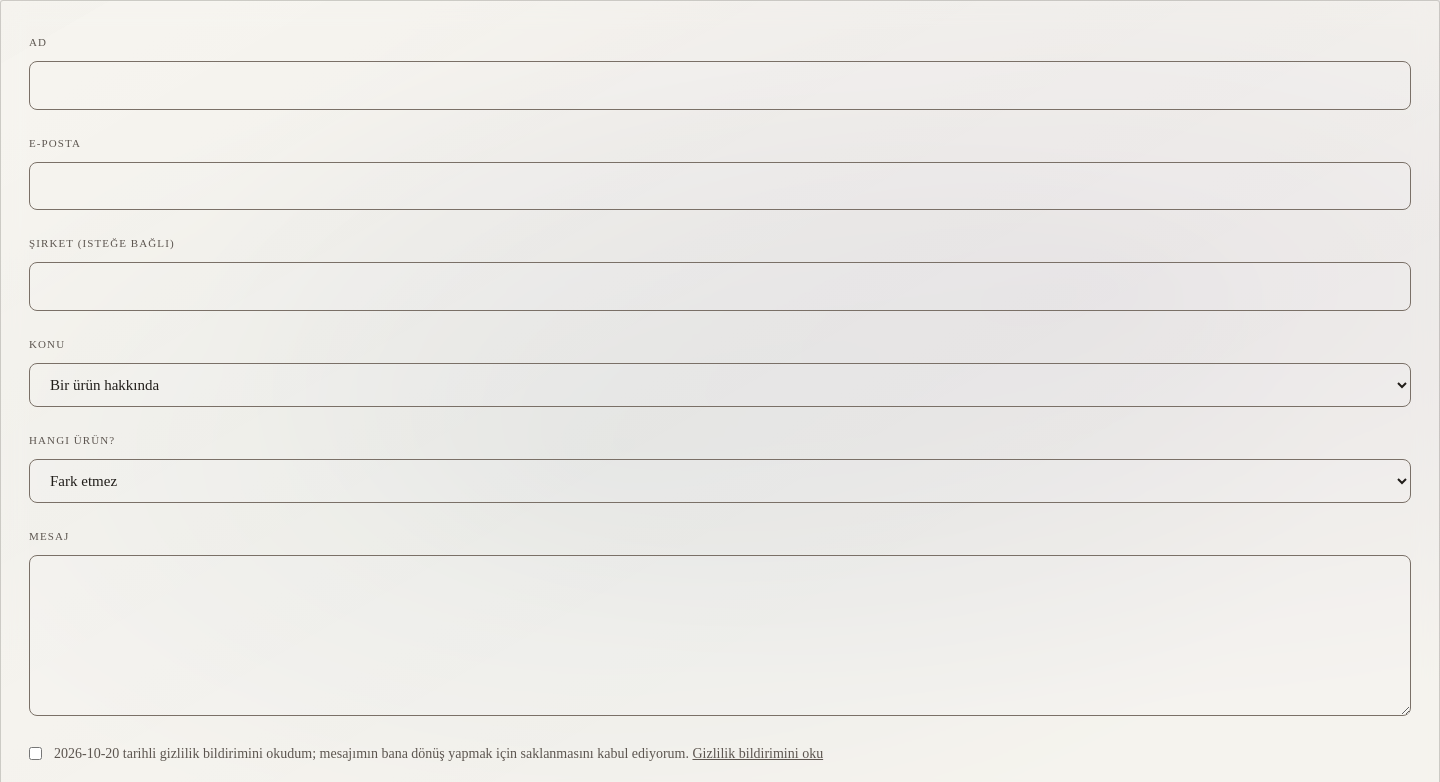
Test: lead real React submission recovery › bounds an abort-ignoring request, preserves the draft and ignores its late receipt after retry
The width and height of the screenshot is (1440, 782).
Type "Ada Example" into the field labelled "Ad" at coordinates (720, 85), box [29,61,1411,110]
Type "ada@example.com" into the field labelled "E-posta" at coordinates (720, 186), box [29,162,1411,210]
Type "Example Company" into the field labelled "Şirket (isteğe bağlı)" at coordinates (720, 286), box [29,262,1411,310]
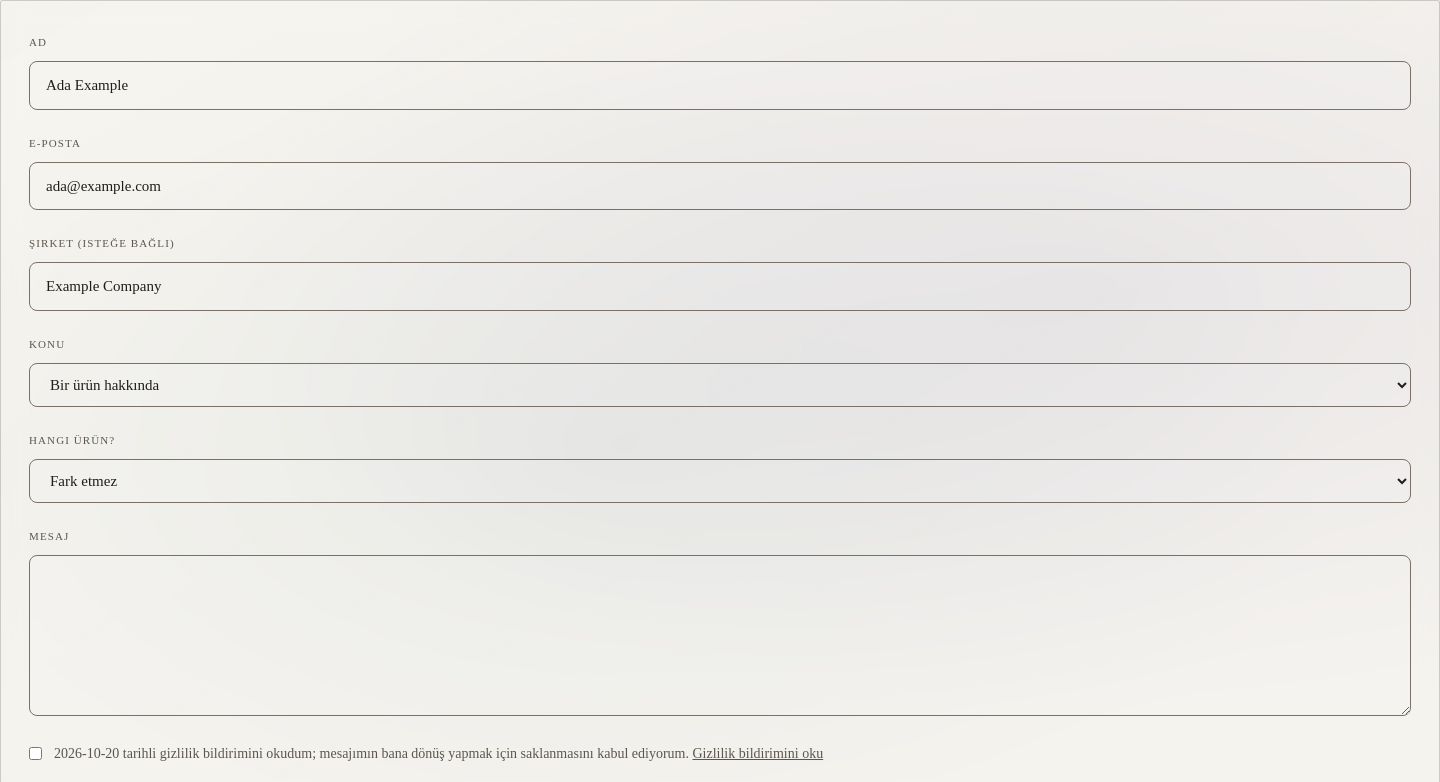
Type "A sample product enquiry with no private data." into the text box labelled "Mesaj" at coordinates (720, 635), box [29,554,1411,716]
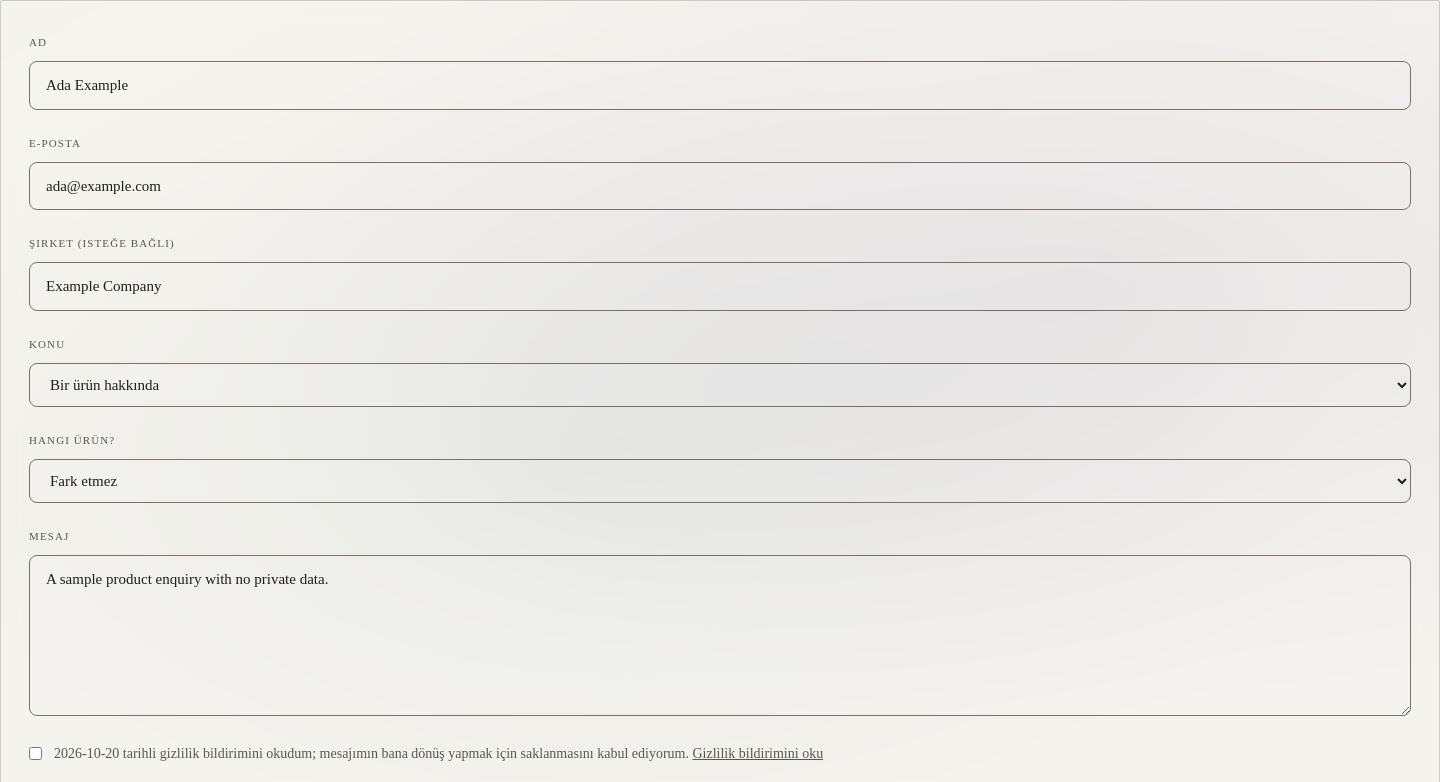
Select "LifeOS" in the dropdown labelled "Hangi ürün?" at coordinates (720, 480), box [29,458,1411,502]
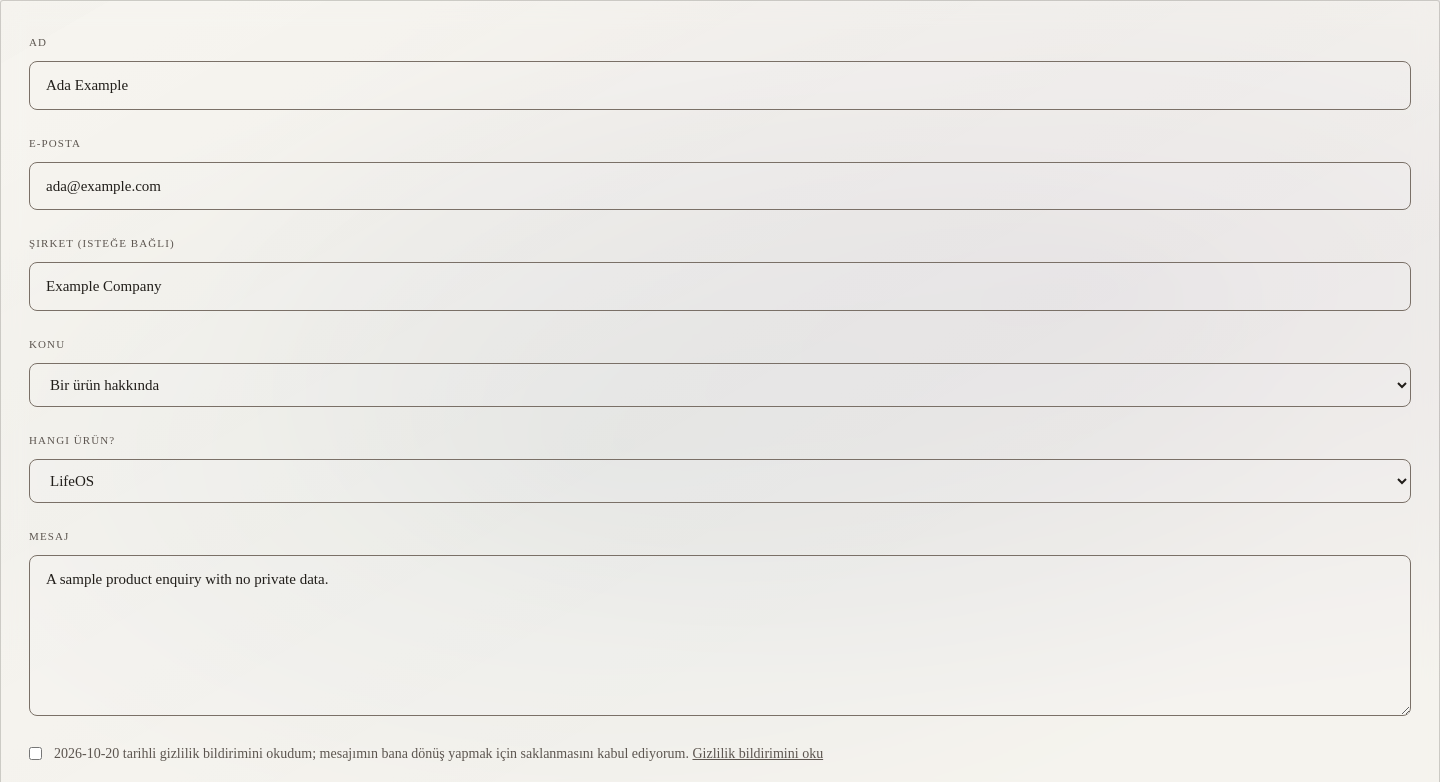
Click the checkbox at coordinates (36, 753), box [29,746,42,760]
(page scrolled)
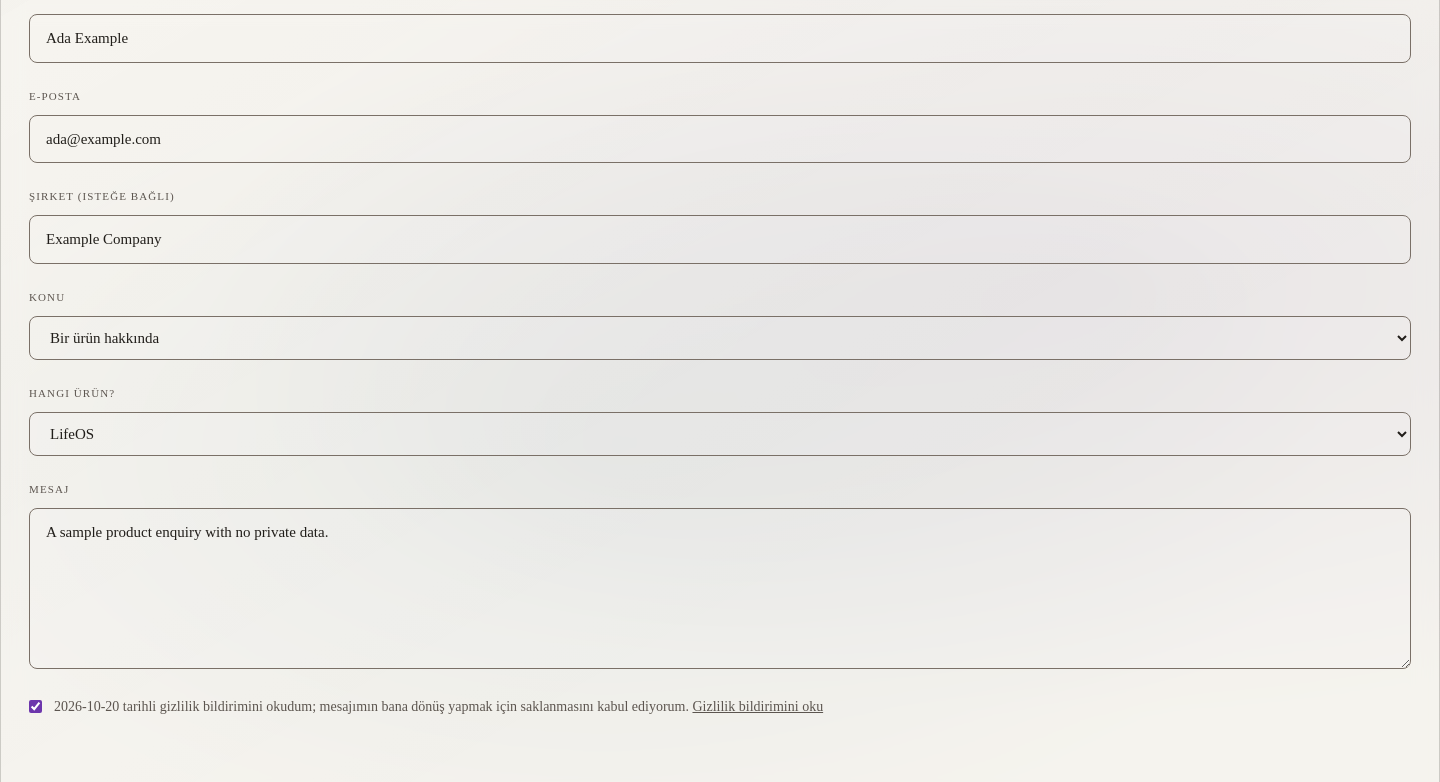
Submit the form
Wait 15000 ms
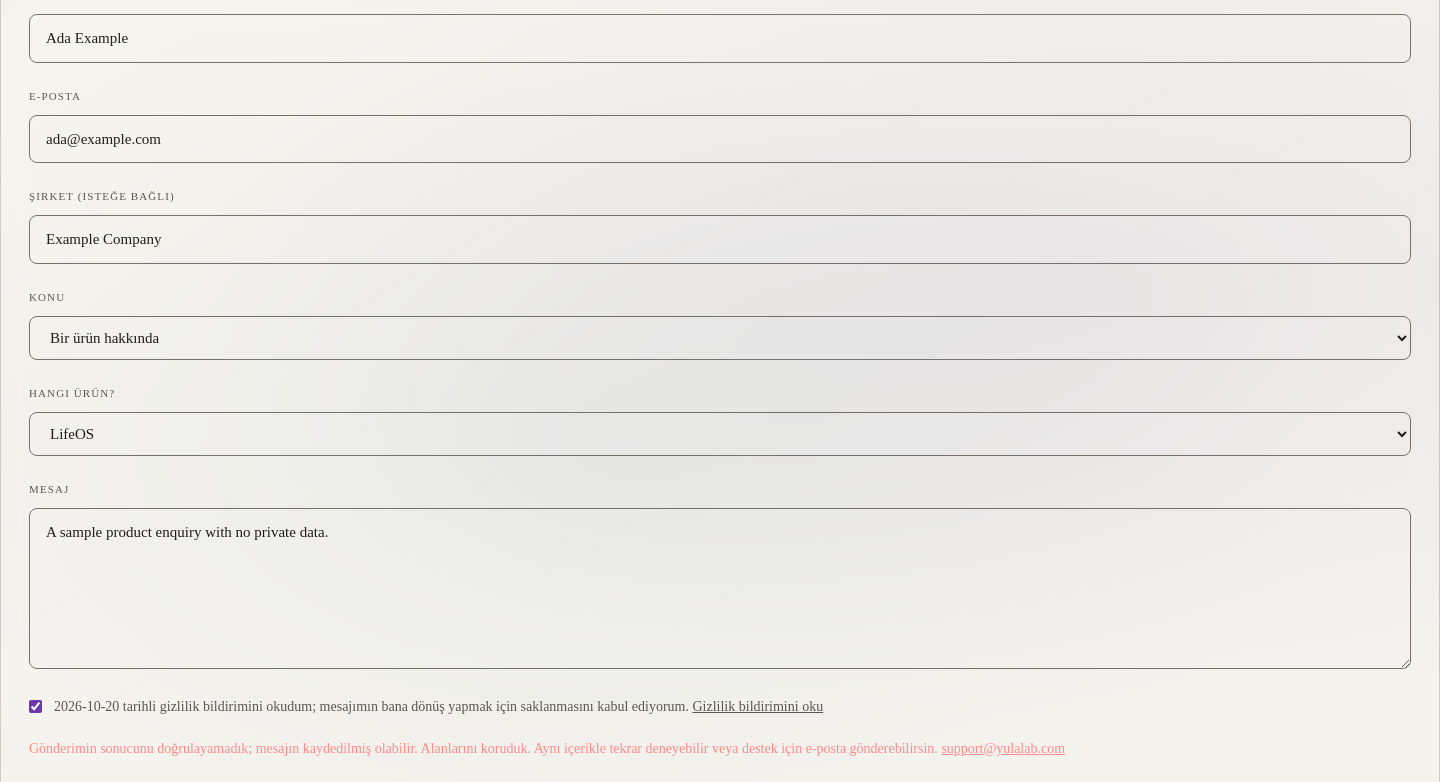
Result: the checkbox is checked at [29,700,42,712]
Result: the text "Gönderimin sonucunu doğrulayamadık; mesajın kaydedilmiş olabilir. Alanlarını koruduk. Aynı içerikle tekrar deneyebilir v" is shown at [29,741,938,756]
Submit the form
(page scrolled)
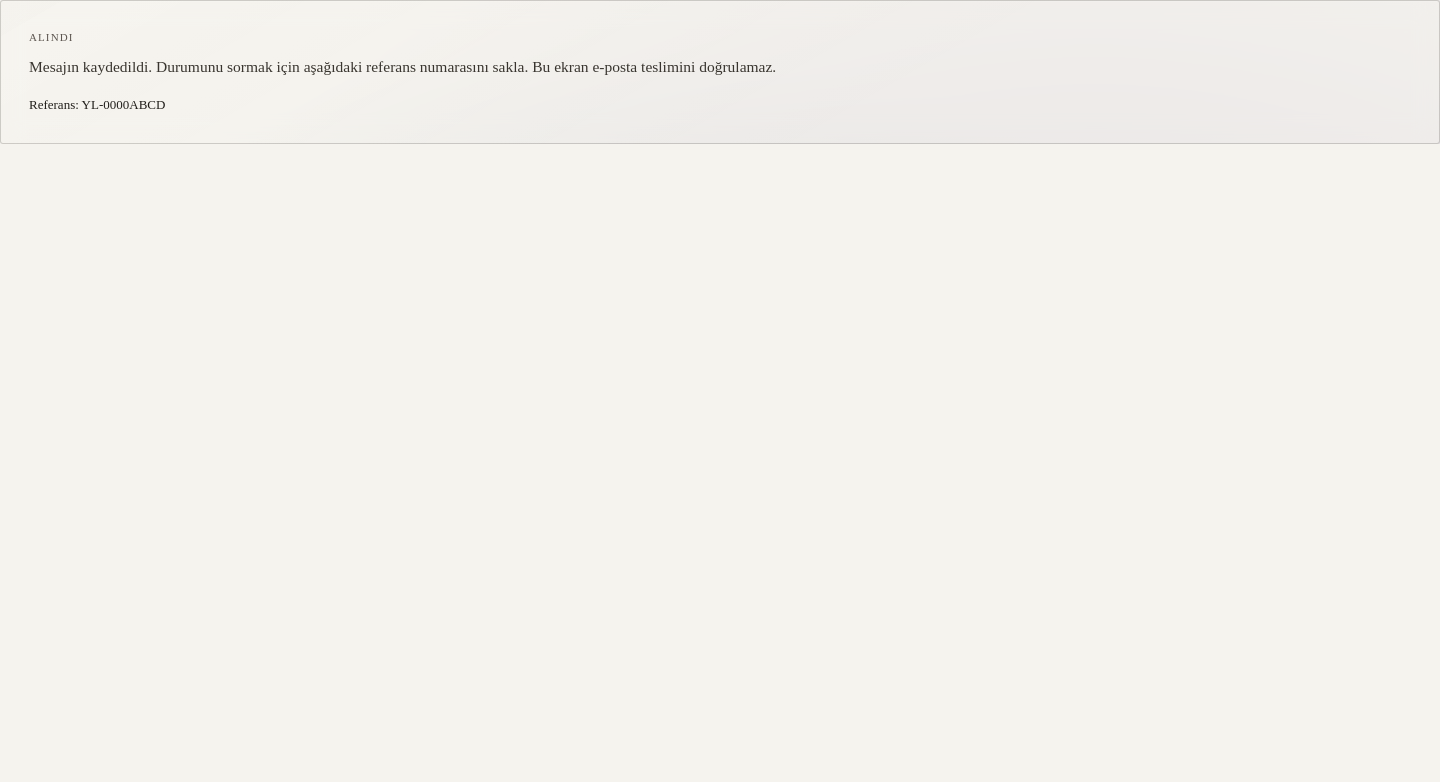
Result: the text "Referans: YL-0000ABCD" is shown at [29,97,165,112]
